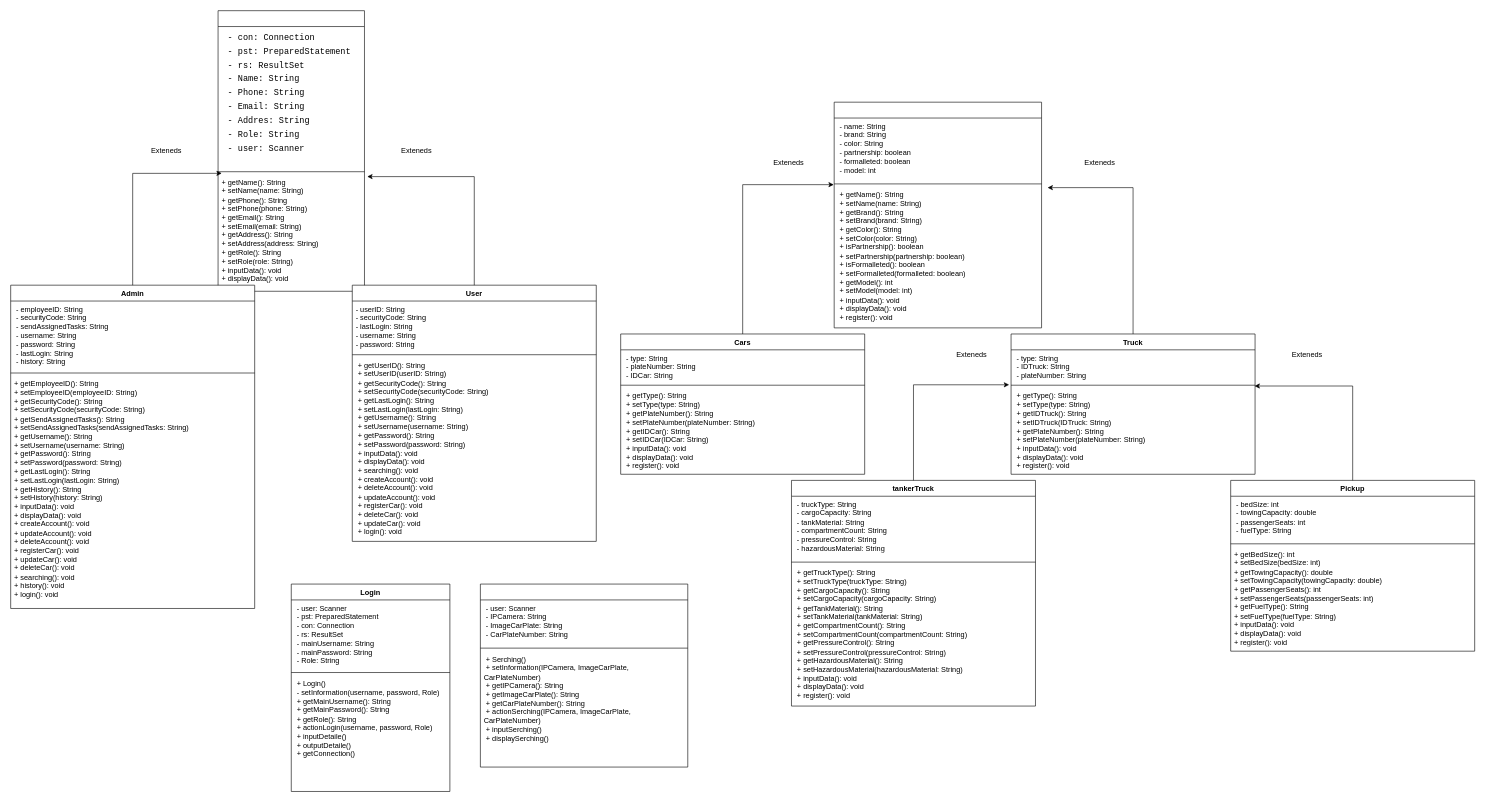
The diagram is 1485 pixels wide and 804 high, and some of its shapes have lost their labels. The box of each missing label's shape, as (x1, y1, x2, y2) in pixels:
Person: (217, 10, 364, 291)
Searching: (480, 583, 688, 767)
Vehicle: (834, 102, 1042, 328)
